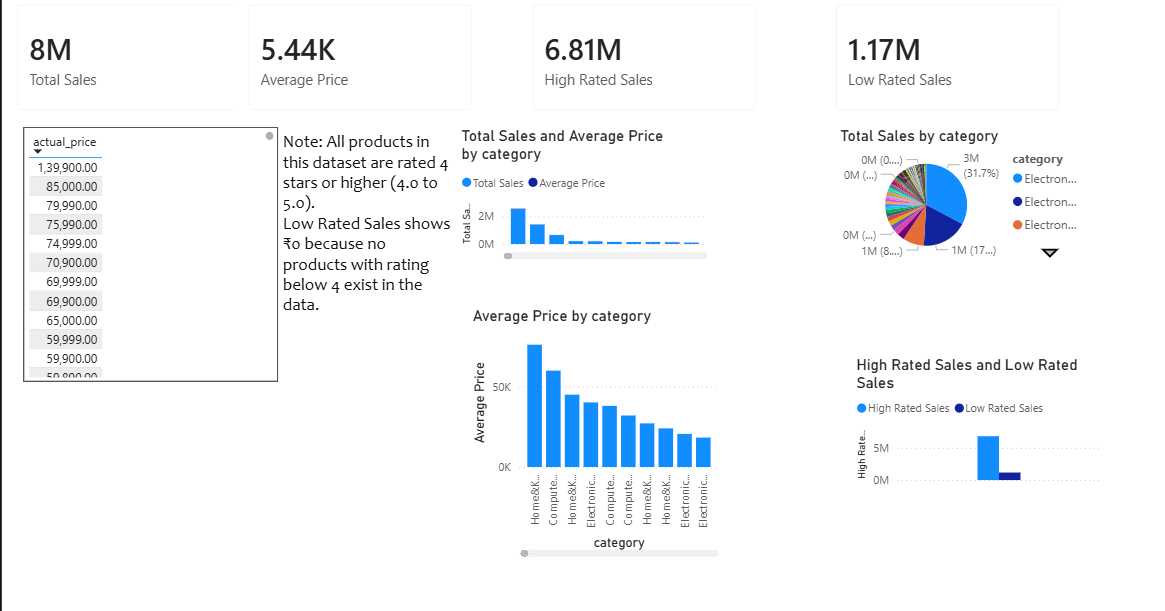

Layout of this report page (visuals, bound fields, positions):
{"tool":"powerbi","page":{"name":"Page 1","canvas":[1280,720],"ordinal":0},"visuals":[{"type":"clusteredColumnChart","fields":{"Category":["amazon.category"],"Y":["amazon.Average Price"]},"box":[511.8,382.8,279.9,279.9],"z":0},{"type":"tableEx","fields":{"Values":["amazon.actual_price"]},"box":[23.3,185.2,279.9,279.9],"z":1000},{"type":"cardVisual","fields":{"Data":["amazon.Total Sales"]},"box":[0,34.3,279.9,150.9],"z":2000},{"type":"columnChart","fields":{"Category":["amazon.category"],"Y":["amazon.Total Sales","amazon.Average Price"]},"box":[499.5,185.2,279.9,150.9],"z":3000},{"type":"clusteredColumnChart","fields":{"Y":["amazon.High Rated Sales","amazon.Low Rated Sales"]},"box":[915.3,382.8,279.9,150.9],"z":4000},{"type":"pieChart","fields":{"Category":["amazon.category"],"Y":["amazon.Total Sales"]},"box":[915.3,185.2,279.9,150.9],"z":5000},{"type":"cardVisual","fields":{"Data":["amazon.Average Price"]},"box":[253.9,34.3,279.9,150.9],"z":6000},{"type":"cardVisual","fields":{"Data":["amazon.High Rated Sales"]},"box":[565.4,34.3,279.9,150.9],"z":7000},{"type":"cardVisual","fields":{"Data":["amazon.Low Rated Sales"]},"box":[898.8,34.3,279.9,150.9],"z":8000},{"type":"textbox","box":[303,185,196,280],"z":8001}]}

Visuals, with their boxes on the page's 1280x720 design canvas (x1, y1, x2, y2). These are canvas units, not pixel positions in the 1165x611 screenshot, which may show the page scaled, cropped or inside an application window:
clusteredColumnChart - amazon.category x amazon.Average Price: {"left": 512, "top": 383, "right": 792, "bottom": 663}
tableEx - amazon.actual_price: {"left": 23, "top": 185, "right": 303, "bottom": 465}
cardVisual - amazon.Total Sales: {"left": 0, "top": 34, "right": 280, "bottom": 185}
columnChart - amazon.category x amazon.Total Sales: {"left": 500, "top": 185, "right": 779, "bottom": 336}
clusteredColumnChart - amazon.High Rated Sales x amazon.Low Rated Sales: {"left": 915, "top": 383, "right": 1195, "bottom": 534}
pieChart - amazon.category x amazon.Total Sales: {"left": 915, "top": 185, "right": 1195, "bottom": 336}
cardVisual - amazon.Average Price: {"left": 254, "top": 34, "right": 534, "bottom": 185}
cardVisual - amazon.High Rated Sales: {"left": 565, "top": 34, "right": 845, "bottom": 185}
cardVisual - amazon.Low Rated Sales: {"left": 899, "top": 34, "right": 1179, "bottom": 185}
textbox: {"left": 303, "top": 185, "right": 499, "bottom": 465}
